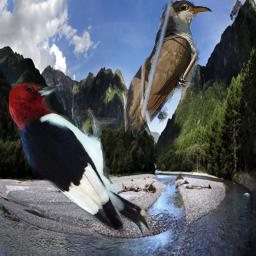Cuckoo: (125, 0, 234, 137)
Woodpecker: (9, 81, 156, 239)
